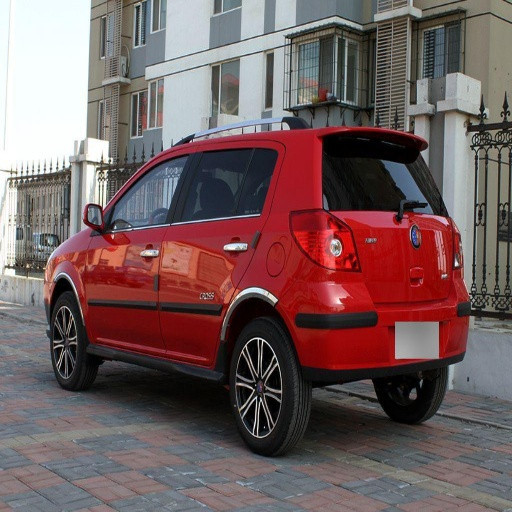back_bumper: (295, 292, 465, 381)
back_glass: (324, 144, 426, 207)
back_left_door: (159, 147, 270, 360)
back_left_light: (296, 227, 356, 270)
trunk: (324, 212, 451, 320)
